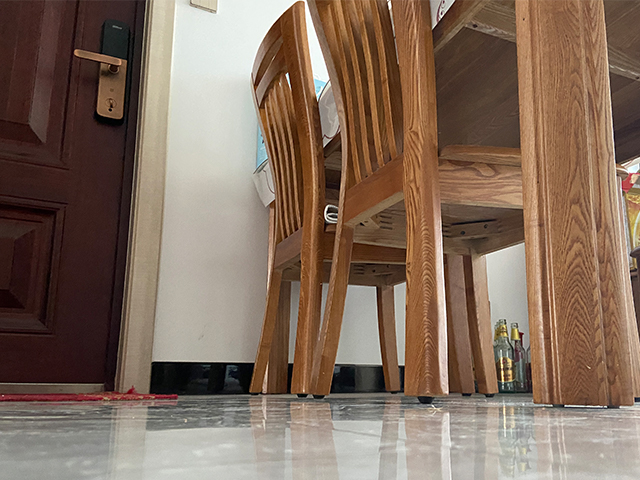carpet: (1, 391, 179, 403)
stool: (249, 1, 477, 399), (305, 1, 529, 406)
table: (249, 1, 640, 409)
